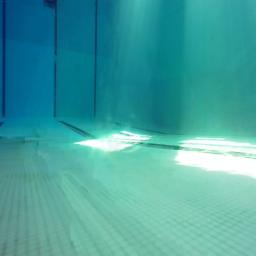Full: (43, 1, 58, 10)
